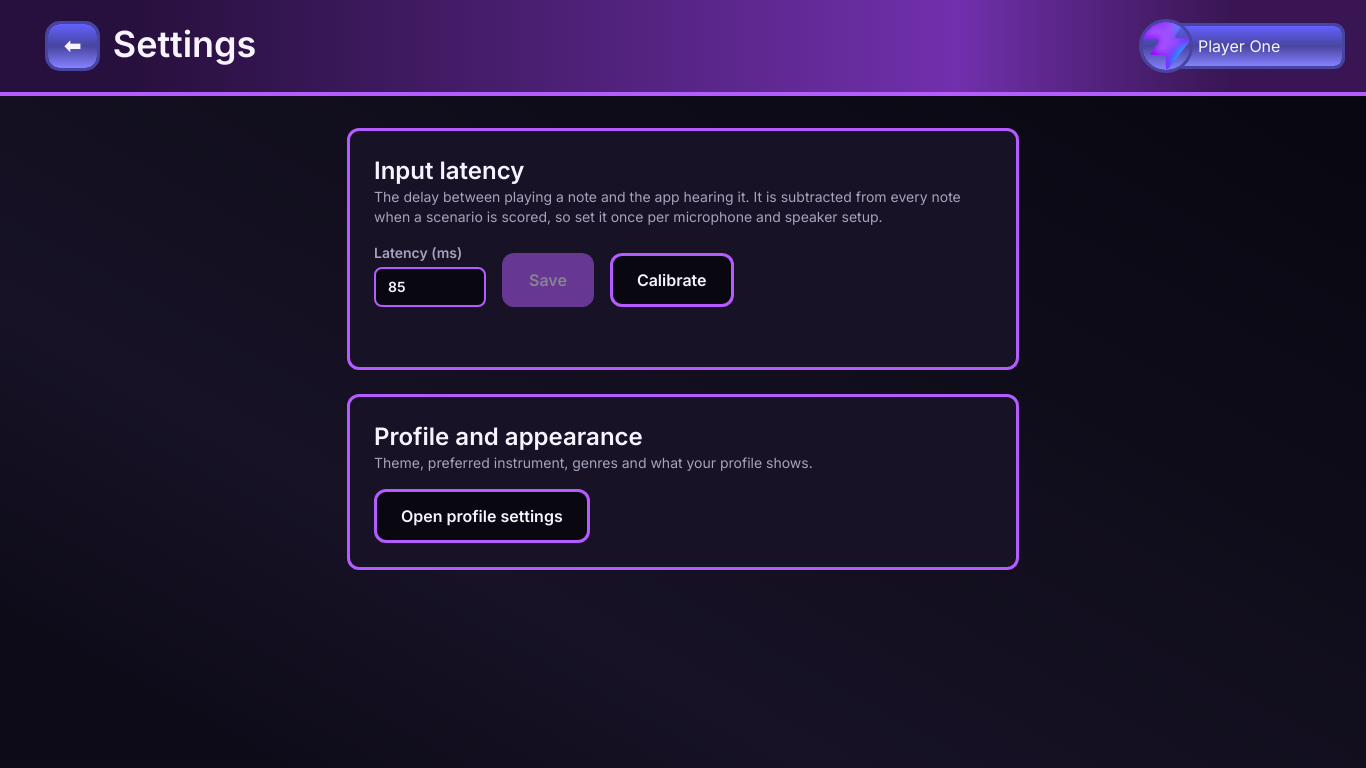
Scenario: settings page › says when the save fails and leaves it ready to retry
This screenshot has width=1366, height=768.
Replace the text in the number field labelled "Latency (ms)" with "40" at (430, 287), box [374,267,486,307]
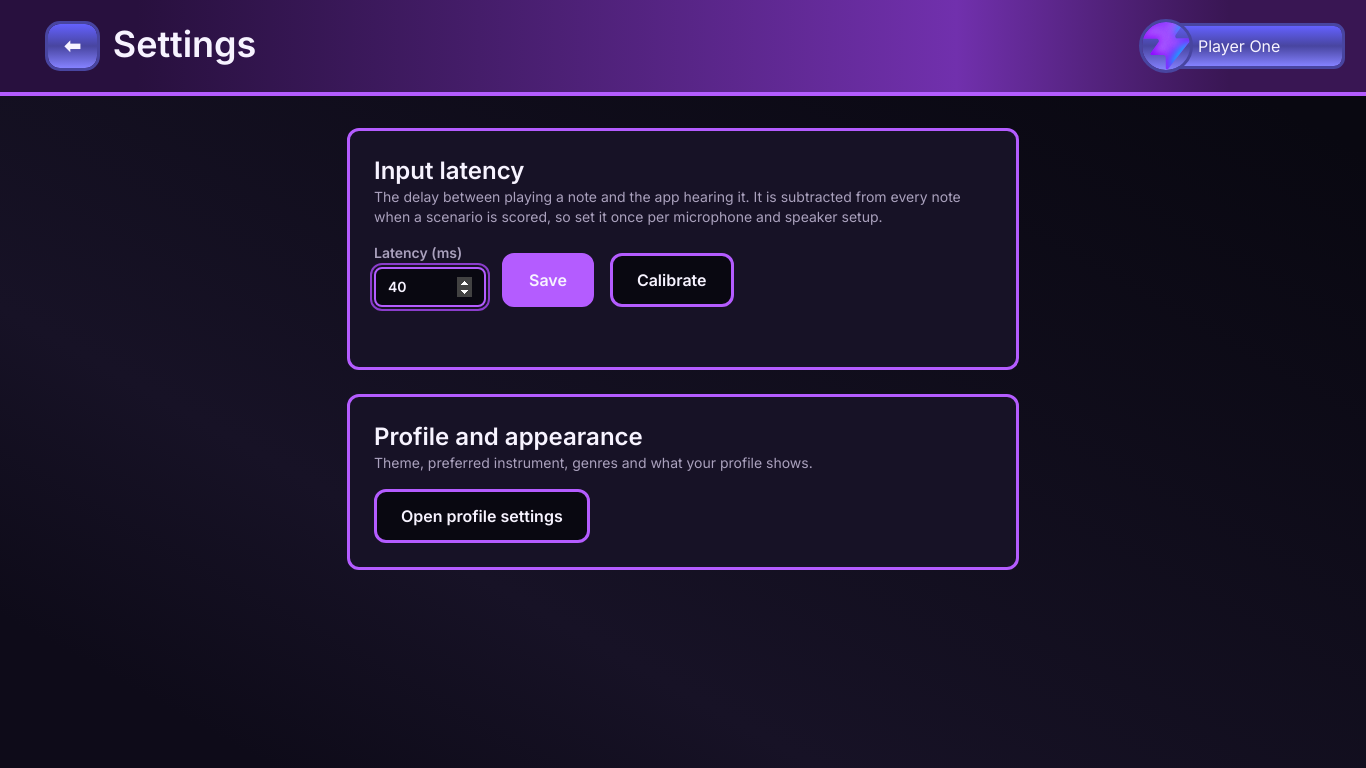
Click the button "Save" at (548, 280), box [502,253,594,307]
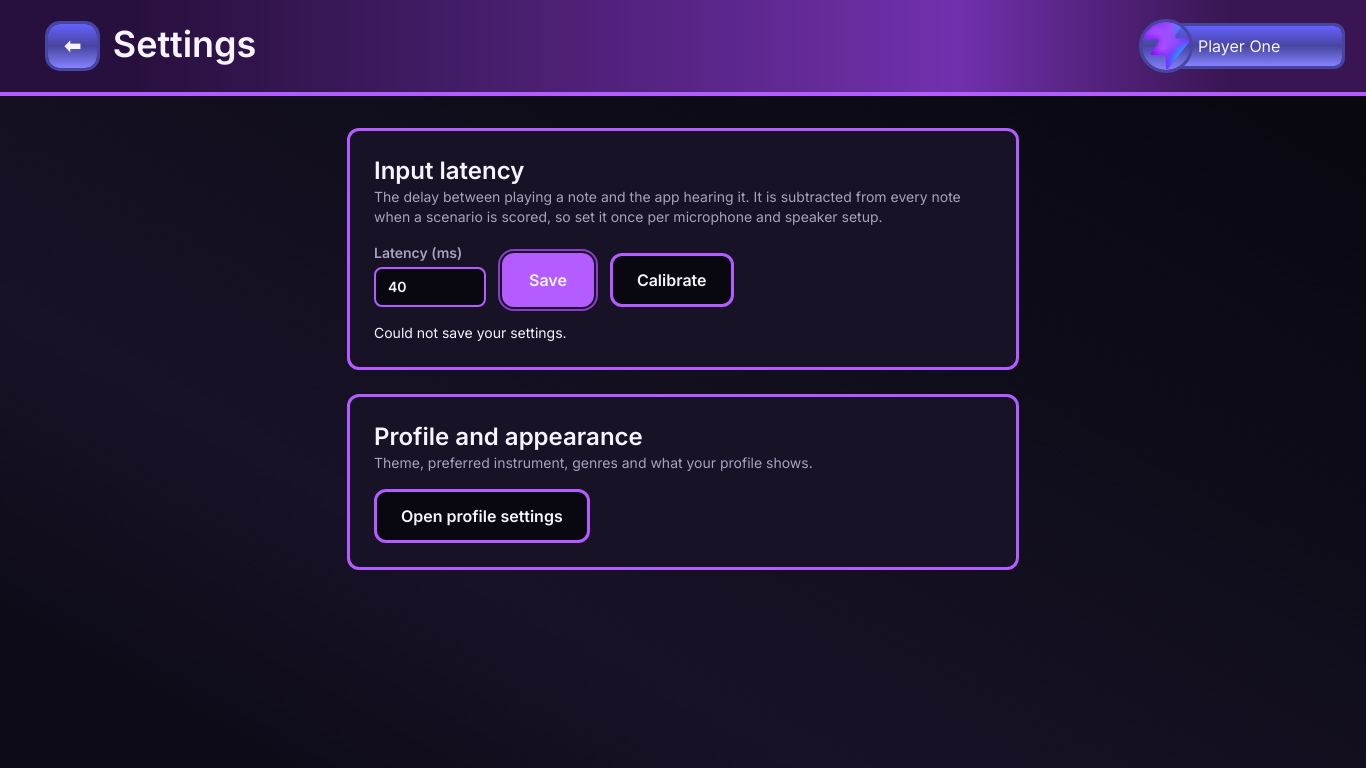
Expected: the button "Save" is enabled, [502,253,594,307]
Expected: the text "Could not save your settings." is shown, [374,324,567,341]
